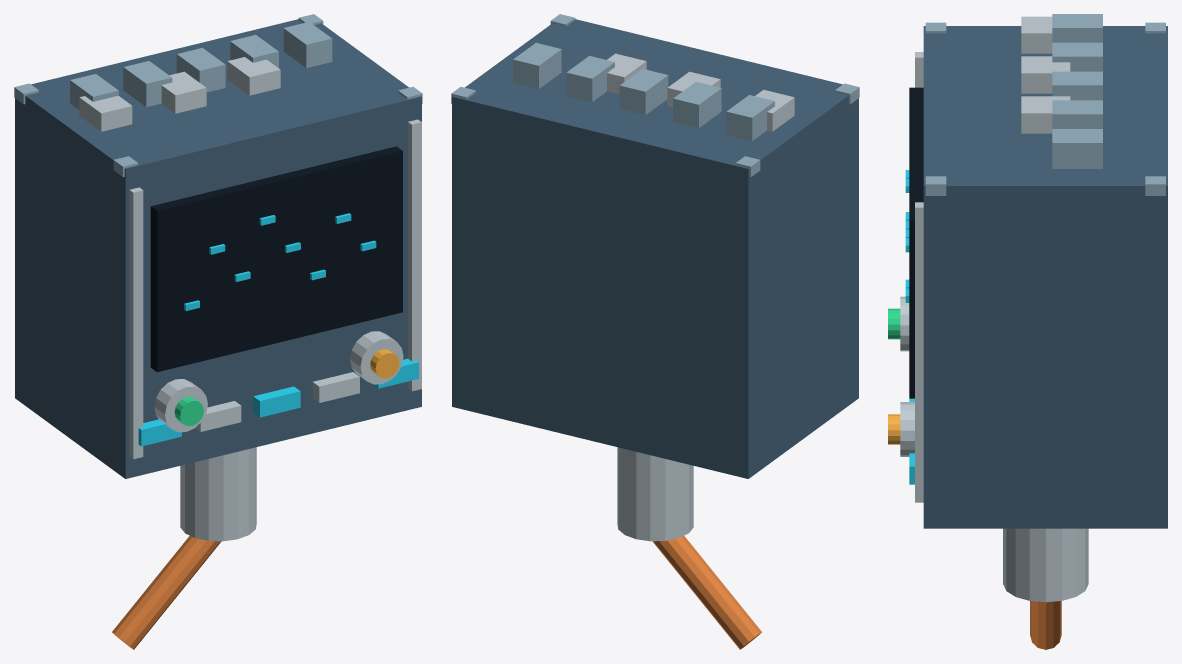
Rendered from 35_L76_VirtualBathConcentrationSensor.fbx.
3 views of the same model, side by side, from view 1: azimuth 30°, elevation 25°; view 2: azimuth 150°, elevation 25°; view 3: azimuth 270°, elevation 25° (orthographic). The views are drawn at different scales.
Parts seen in each view (by area): view 1: VirtualBathConcentrationSensor; view 2: VirtualBathConcentrationSensor; view 3: VirtualBathConcentrationSensor.
Boxes of the visible parts, left/top/right/bottom form: VirtualBathConcentrationSensor: left=14, top=14, right=422, bottom=649; VirtualBathConcentrationSensor: left=451, top=14, right=859, bottom=649; VirtualBathConcentrationSensor: left=888, top=14, right=1167, bottom=649.
Bounding box in the file's own units: 62.72 × 112 × 45.85.
